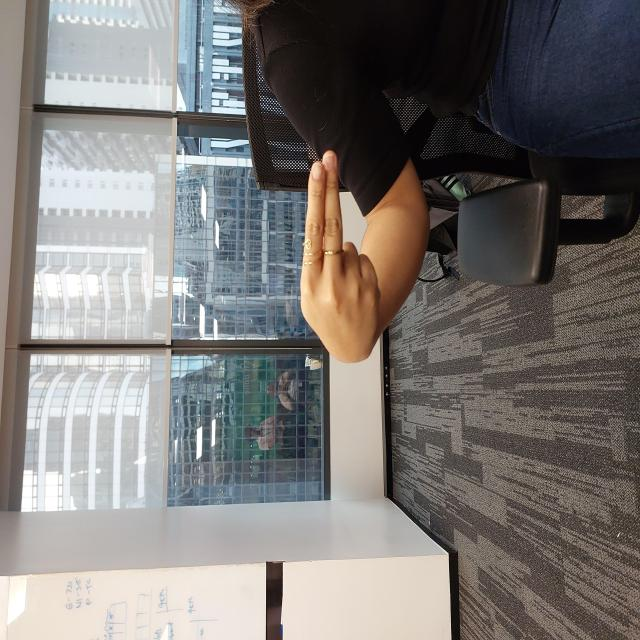H: (275, 298, 493, 382)
